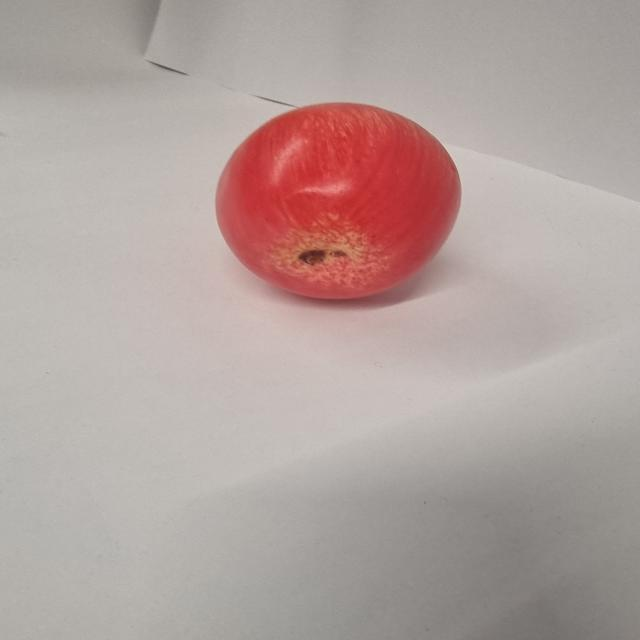apple: (214, 102, 461, 304)
